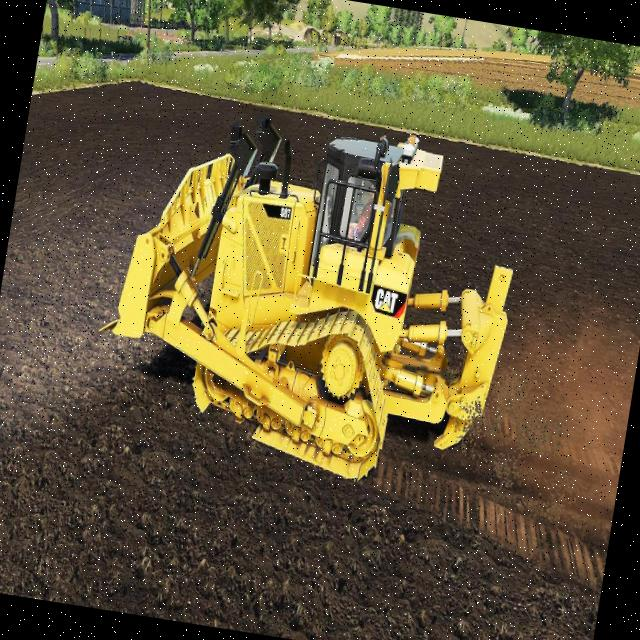Bulldozer: (73, 86, 541, 526)
